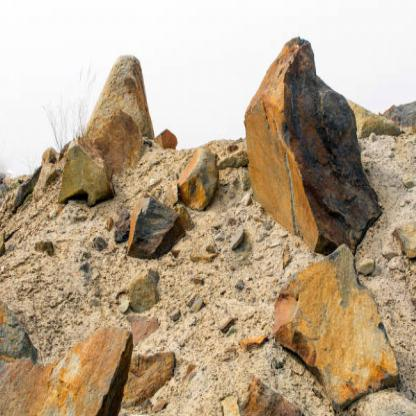Sedimentary_Limestone: (240, 28, 388, 252), (270, 236, 403, 408), (0, 319, 135, 415), (52, 140, 115, 208), (125, 192, 180, 260), (175, 145, 220, 218)
